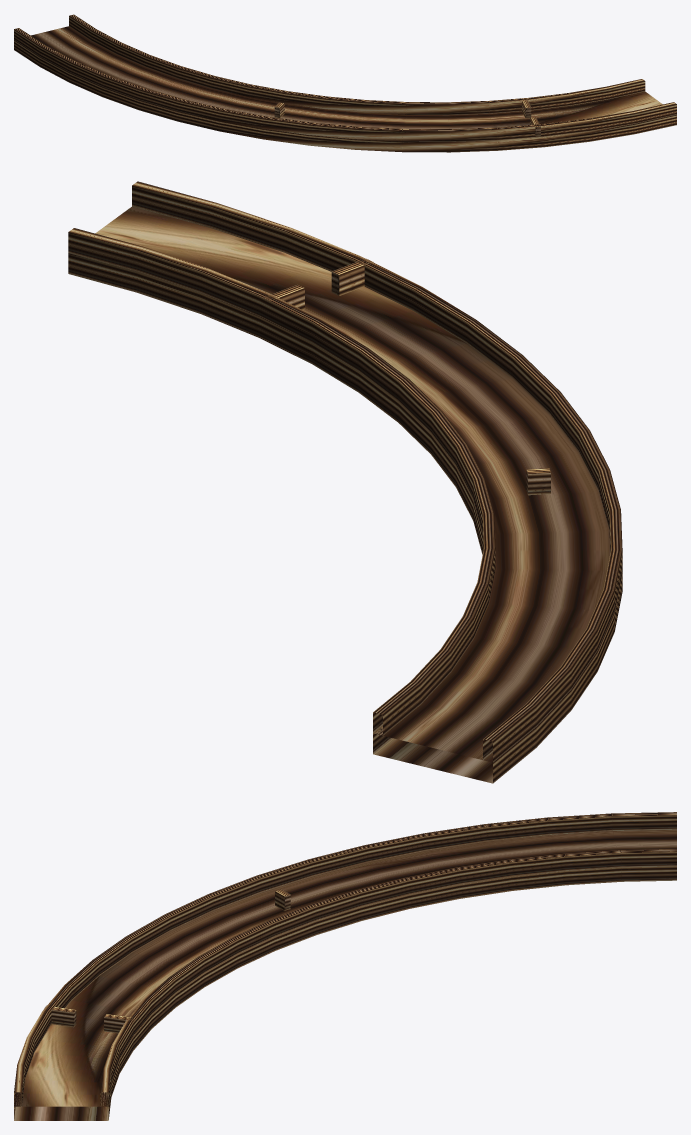
The model's file is O - Outside Window Middle.obj.
3 views of the same model, one above another, from view 1: azimuth 30°, elevation 25°; view 2: azimuth 150°, elevation 25°; view 3: azimuth 270°, elevation 25° (orthographic). The views are drawn at different scales.
Parts seen in each view (by area): view 1: polySurface14; view 2: polySurface14; view 3: polySurface14.
Part boxes in pixels (x1=…): polySurface14: x1=14, y1=14, x2=676, y2=152; polySurface14: x1=68, y1=181, x2=622, y2=783; polySurface14: x1=14, y1=812, x2=676, y2=1120.
Bounding box in the file's own units: 2940 × 140 × 2940.
